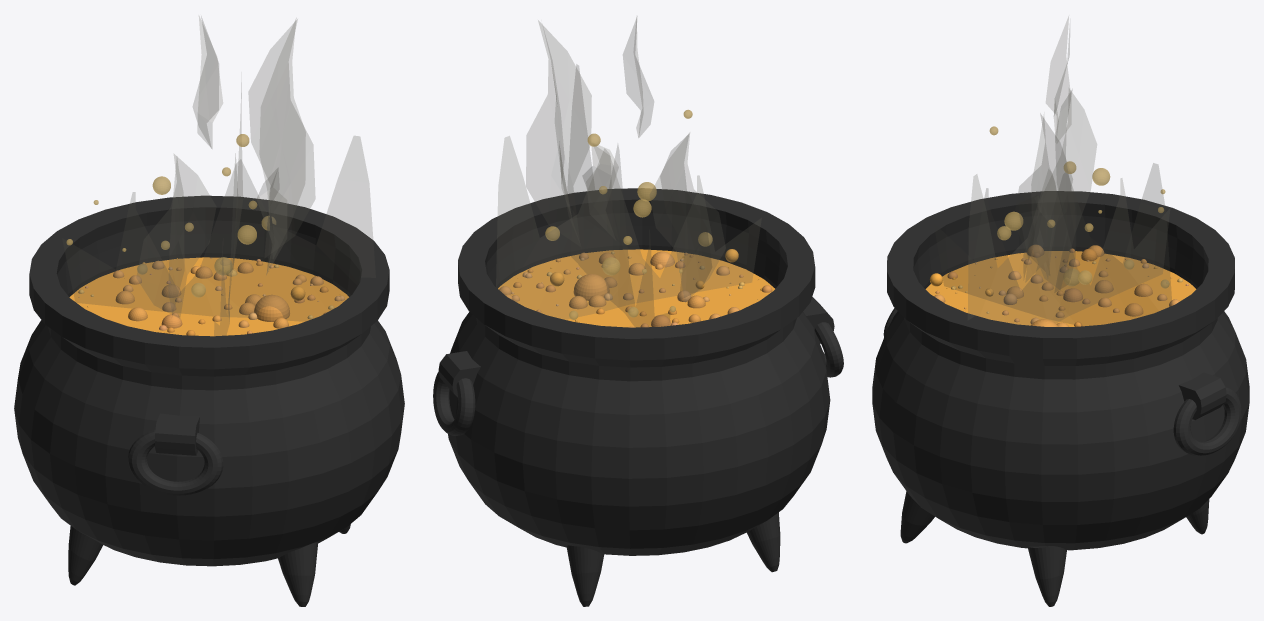
3 renders of one model, left to right at view 1: azimuth 30°, elevation 25°; view 2: azimuth 150°, elevation 25°; view 3: azimuth 270°, elevation 25°, orthographic. The views are drawn at different scales.
Parts seen in each view (by area): view 1: Сфера.029, Плоскость.004, Окружность, Плоскость.002, Плоскость.001, Плоскость.003, Плоскость.000, Сфера.002; view 2: Сфера.029, Плоскость.004, Окружность, Плоскость.002, Плоскость.001, Плоскость.000, Плоскость.003, Сфера.002; view 3: Сфера.029, Плоскость.004, Окружность, Плоскость.002, Плоскость.001, Плоскость.003, Плоскость.000.
Part boxes in pixels (left/top/right/bottom): Сфера.029: left=14, top=195, right=404, bottom=606; Плоскость.004: left=62, top=83, right=375, bottom=335; Окружность: left=69, top=257, right=348, bottom=336; Плоскость.002: left=248, top=18, right=315, bottom=257; Плоскость.001: left=136, top=154, right=215, bottom=317; Плоскость.003: left=193, top=16, right=222, bottom=148; Плоскость.000: left=257, top=168, right=286, bottom=274; Сфера.002: left=254, top=294, right=289, bottom=321; Сфера.029: left=433, top=188, right=843, bottom=606; Плоскость.004: left=496, top=64, right=761, bottom=327; Окружность: left=498, top=249, right=774, bottom=327; Плоскость.002: left=526, top=20, right=591, bottom=245; Плоскость.001: left=650, top=133, right=725, bottom=302; Плоскость.000: left=583, top=145, right=618, bottom=232; Плоскость.003: left=623, top=17, right=653, bottom=137; Сфера.002: left=573, top=274, right=609, bottom=300; Сфера.029: left=872, top=191, right=1249, bottom=606; Плоскость.004: left=934, top=163, right=1171, bottom=325; Окружность: left=925, top=251, right=1196, bottom=326; Плоскость.002: left=1032, top=89, right=1096, bottom=292; Плоскость.001: left=1015, top=114, right=1072, bottom=249; Плоскость.003: left=1046, top=17, right=1070, bottom=142; Плоскость.000: left=1019, top=195, right=1051, bottom=281.
Size of the model in its own units: 386 by 597 by 386.
